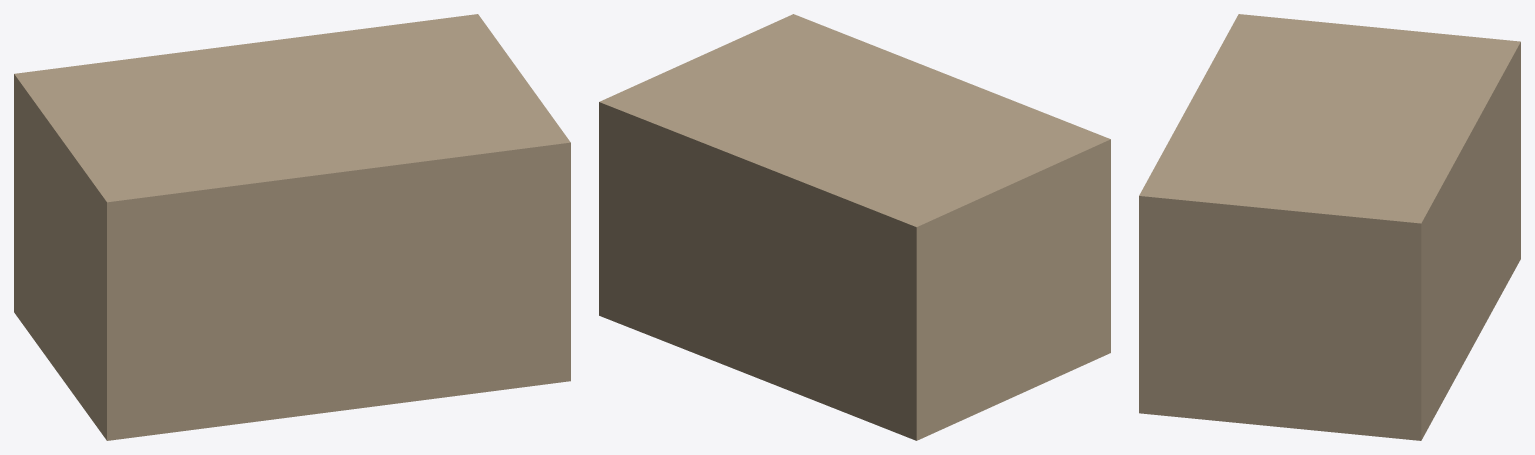
Rendered from bld_99615997.dae.
The picture shows the model from 3 angles, left to right: view 1: azimuth 30°, elevation 25°; view 2: azimuth 150°, elevation 25°; view 3: azimuth 270°, elevation 25°; orthographic projection. The views are drawn at different scales.
Visible parts, largest first — view 1: bld_99615997; view 2: bld_99615997; view 3: bld_99615997.
Boxes of the visible parts, x1,y1,x2,y2 form: bld_99615997: (14, 14, 570, 440); bld_99615997: (599, 14, 1110, 440); bld_99615997: (1139, 14, 1520, 440).
Bounding box in the file's own units: 16.53 × 12.74 × 8.
